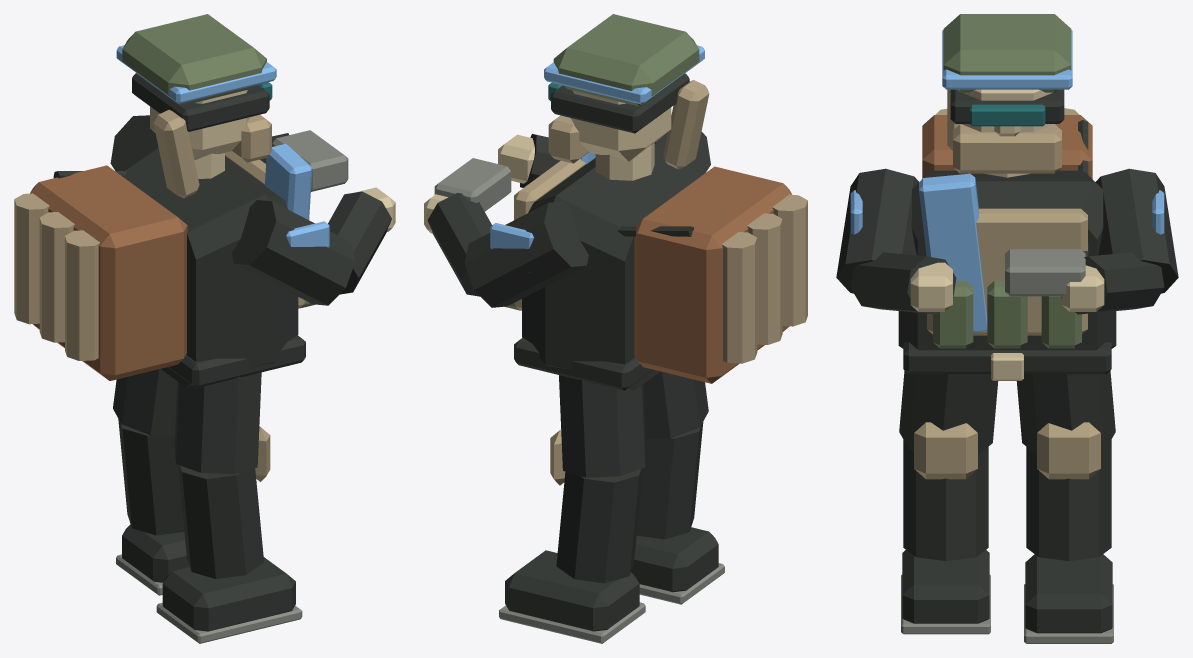
Rendered from saboteur.glb.
3 renders of one model, left to right at view 1: azimuth 30°, elevation 25°; view 2: azimuth 150°, elevation 25°; view 3: azimuth 270°, elevation 25°, orthographic. The views are drawn at different scales.
Parts seen in each view (by area): view 1: saboteur; view 2: saboteur; view 3: saboteur.
Boxes of the visible parts, <box> form: saboteur: <box>14,14,395,643</box>; saboteur: <box>424,14,807,643</box>; saboteur: <box>836,14,1178,643</box>.
Size of the model in its own units: 0.8 by 1.37 by 0.74.
